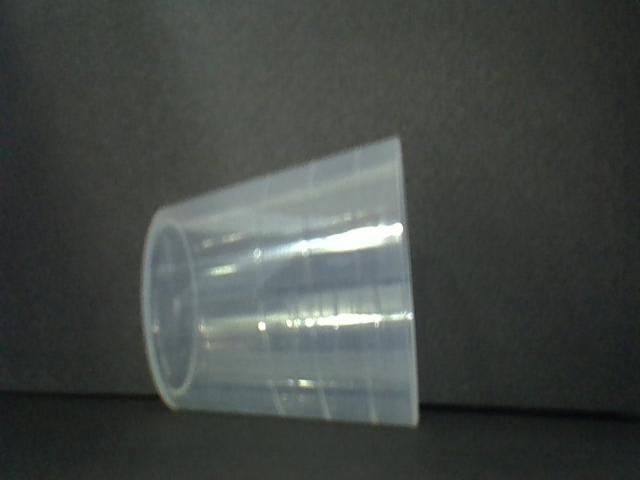cup: (138, 136, 425, 438)
